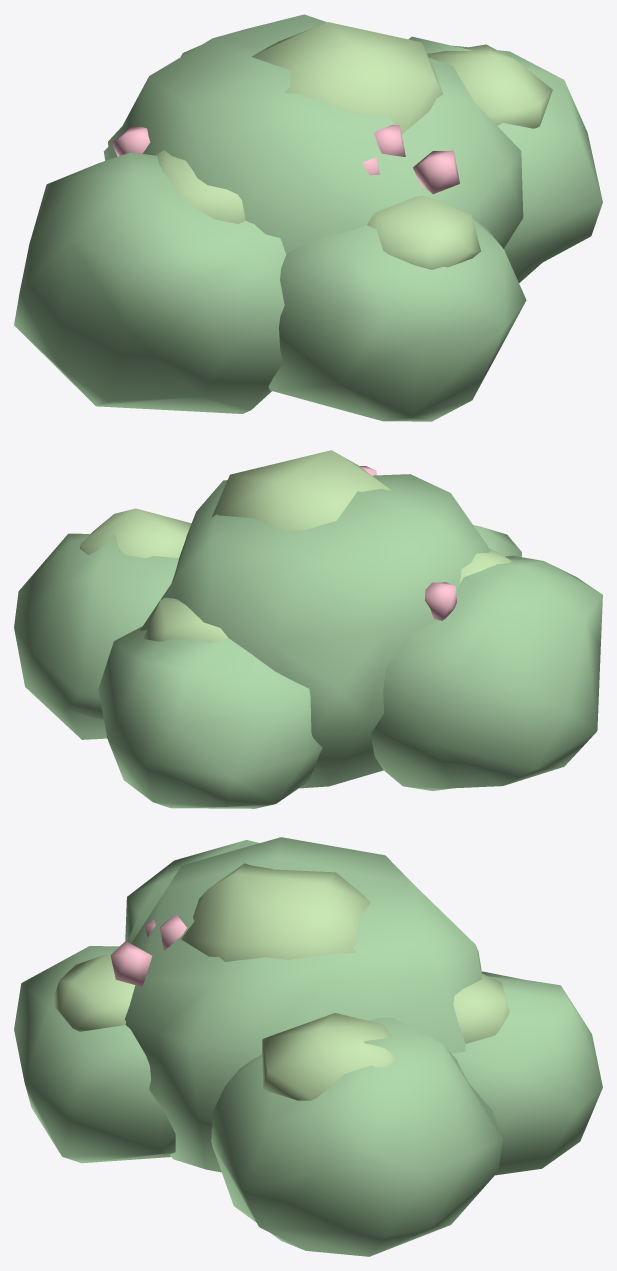
Rendered from prop_bush.glb.
The picture shows the model from 3 angles, top to bottom: view 1: azimuth 30°, elevation 25°; view 2: azimuth 150°, elevation 25°; view 3: azimuth 270°, elevation 25°; orthographic projection. The views are drawn at different scales.
Visible parts, largest first — view 1: prop_bush; view 2: prop_bush; view 3: prop_bush.
Boxes of the visible parts, box(x1,y1,x2,y2) form: prop_bush: box(14, 14, 602, 421); prop_bush: box(14, 450, 602, 808); prop_bush: box(14, 837, 602, 1256).
Bounding box in the file's own units: 1.96 × 1.05 × 1.81.
